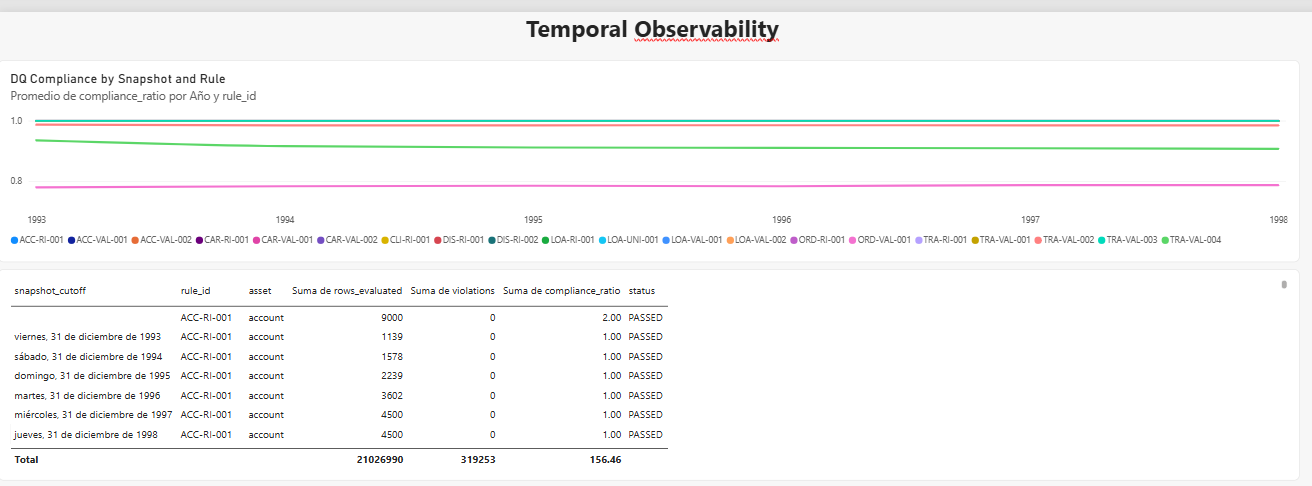

Layout of this report page (visuals, bound fields, positions):
{"tool":"powerbi","page":{"name":"Temporal Observability","canvas":[1920,1080],"ordinal":2},"visuals":[{"type":"textbox","box":[9.7,0,1792.6,66.4],"z":0},{"type":"lineChart","title":"DQ Compliance by Snapshot and Rule","fields":{"Category":["dq_evaluations.snapshot_cutoff.Variación.Jerarquía de fechas.Año","dq_evaluations.snapshot_cutoff.Variación.Jerarquía de fechas.Trimestre","dq_evaluations.snapshot_cutoff.Variación.Jerarquía de fechas.Mes","dq_evaluations.snapshot_cutoff.Variación.Jerarquía de fechas.Día"],"Y":["Avg(dq_evaluations.compliance_ratio)"],"Series":["dq_evaluations.rule_id"]},"box":[0,66.4,1802.3,279.6],"z":1},{"type":"tableEx","fields":{"Values":["dq_evaluations.snapshot_cutoff","dq_evaluations.rule_id","dq_evaluations.asset","Sum(dq_evaluations.rows_evaluated)","Sum(dq_evaluations.violations)","Sum(dq_evaluations.compliance_ratio)","dq_evaluations.status"]},"box":[0,355.8,1802.3,293.5],"z":3}]}

Visuals, with their boxes on the page's 1920x1080 design canvas (x1, y1, x2, y2). These are canvas units, not pixel positions in the 1312x486 screenshot, which may show the page scaled, cropped or inside an application window:
textbox: left=10, top=0, right=1802, bottom=66
"DQ Compliance by Snapshot and Rule" lineChart: left=0, top=66, right=1802, bottom=346
tableEx - dq_evaluations.snapshot_cutoff x dq_evaluations.rule_id: left=0, top=356, right=1802, bottom=649
